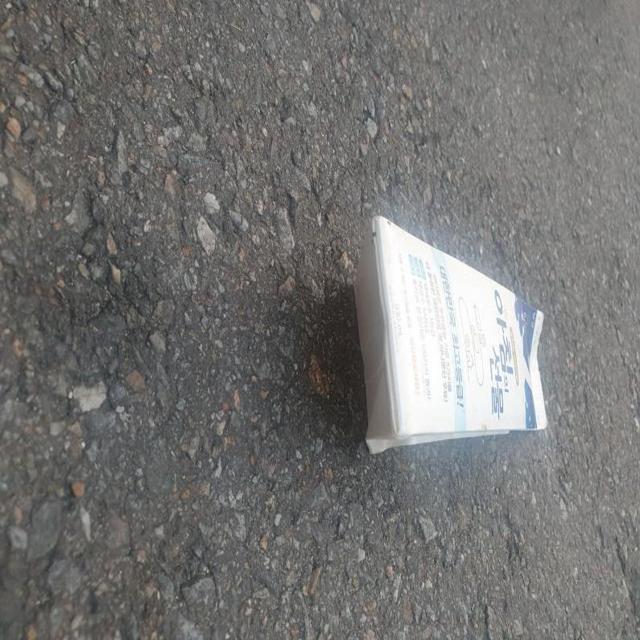paperpack: (356, 216, 548, 453)
